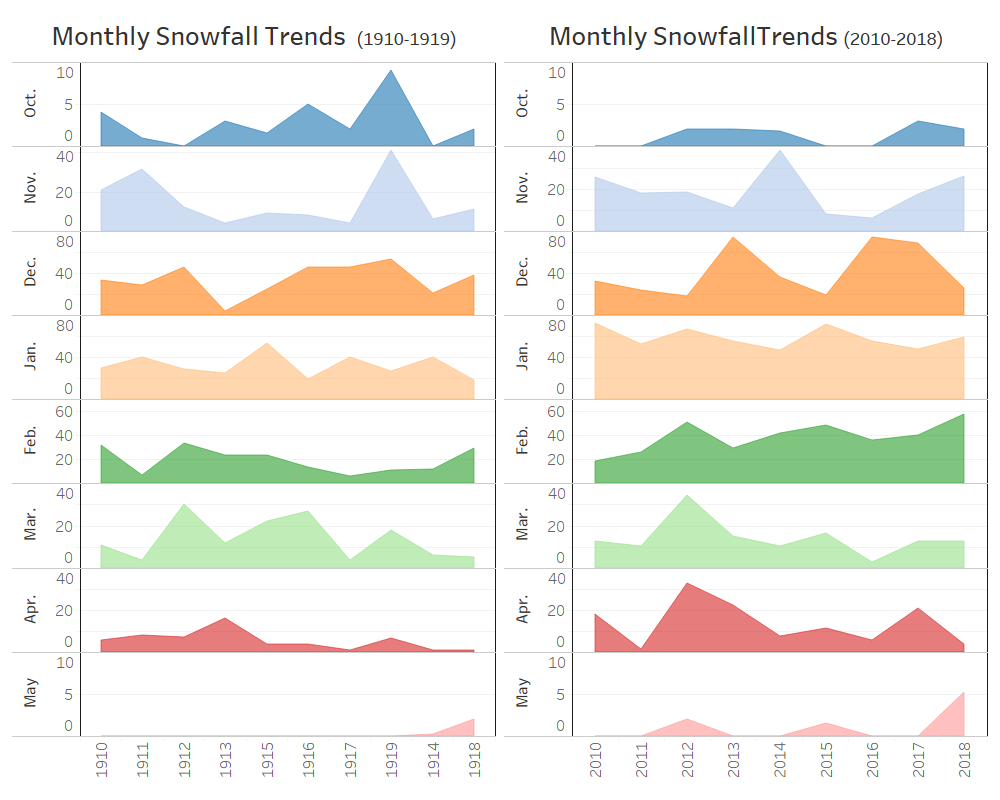

This screenshot's page, from the dashboard's own definition file:
{"tool":"tableau","page":{"name":"Dashboard 1","canvas":[1000,800],"ordinal":0},"visuals":[{"type":"worksheet","title":"Trends(1910-19)","mark":"Area","rows":["Oct.","Nov.","Dec.","Jan.","Feb.","Mar.","Apr.","May"],"cols":["Winter"],"box":[8,8,492,784]},{"type":"worksheet","title":"Trends(2010-P)","mark":"Area","rows":["Oct.","Nov.","Dec.","Jan.","Feb.","Mar.","Apr.","May"],"cols":["Winter"],"box":[500,8,492,784]}]}

Visuals, with their boxes in screenshot pixels (x1, y1, x2, y2), scaled from the page's 1000x800 canvas onto the 1000x800 screenshot:
"Trends(1910-19)" worksheet (Area marks): select_region(8, 8, 500, 792)
"Trends(2010-P)" worksheet (Area marks): select_region(500, 8, 992, 792)
